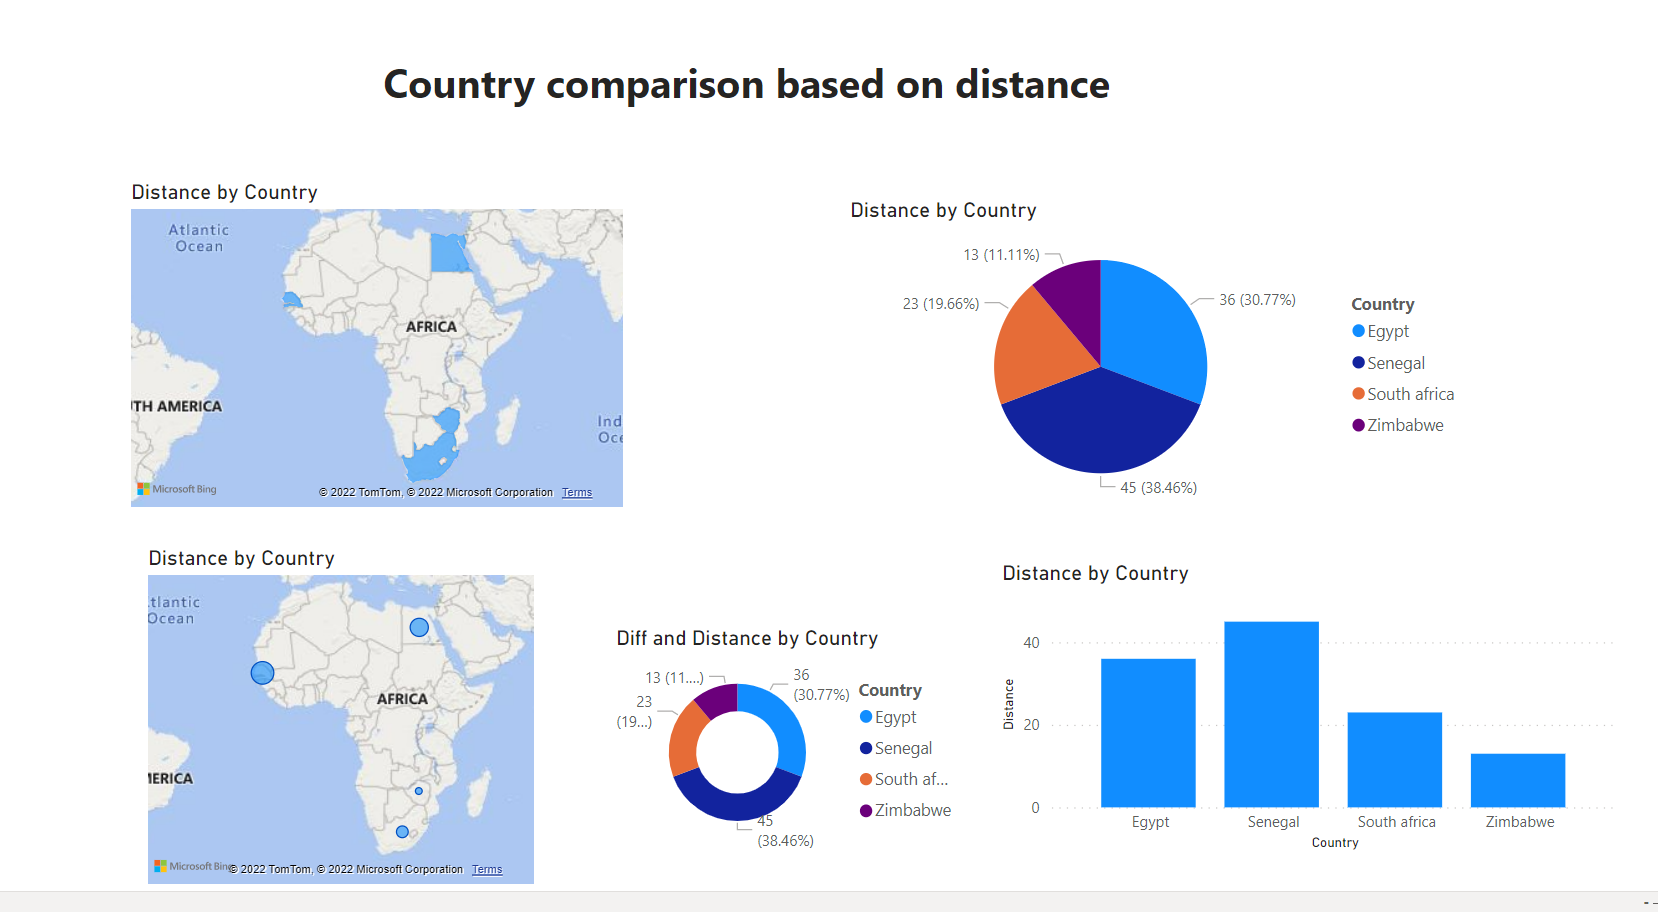

What the dashboard file says about the page in this screenshot:
{"tool":"powerbi","page":{"name":"Page 1","canvas":[1280,720],"ordinal":0},"visuals":[{"type":"pieChart","fields":{"Category":["Data.Country"],"Y":["Sum(Data.Distance)"]},"box":[652,162,506,254],"z":1},{"type":"filledMap","fields":{"Category":["Data.Country"]},"box":[73,147,406,269],"z":2},{"type":"textbox","box":[276,42,629,81],"z":3},{"type":"map","fields":{"Category":["Data.Country"],"Size":["Sum(Data.Distance)"]},"box":[87,442,320,278],"z":5},{"type":"clusteredColumnChart","fields":{"Y":["Sum(Data.Distance)"],"Category":["Data.Country"]},"box":[774,454,506,238],"z":7},{"type":"donutChart","fields":{"Y":["Data.Diff","Sum(Data.Distance)"],"Category":["Data.Country"]},"box":[463,506,289,186],"z":8}]}

Visuals, with their boxes in screenshot pixels (x1, y1, x2, y2), scaled from the page's 1280x720 canvas onto the 1658x912 screenshot:
pieChart - Data.Country x Sum(Data.Distance): 845 205 1500 527
filledMap - Data.Country: 95 186 620 527
textbox: 358 53 1172 156
map - Data.Country x Sum(Data.Distance): 113 560 527 911
clusteredColumnChart - Sum(Data.Distance) x Data.Country: 1003 575 1657 877
donutChart - Data.Diff x Sum(Data.Distance): 600 641 974 877
